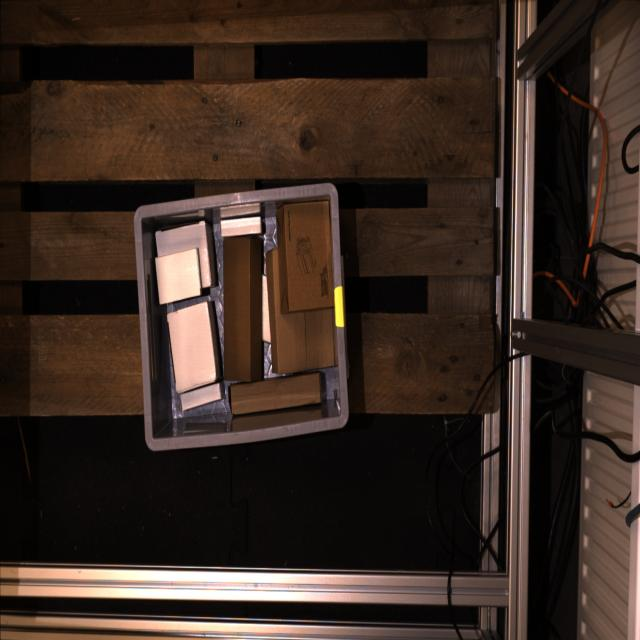CardboardBox: (267, 249, 336, 374), (277, 199, 333, 313), (224, 236, 262, 382), (167, 302, 219, 393), (155, 221, 216, 287), (231, 372, 320, 415), (156, 249, 201, 303), (180, 383, 222, 410), (221, 217, 261, 237), (262, 275, 271, 342)
